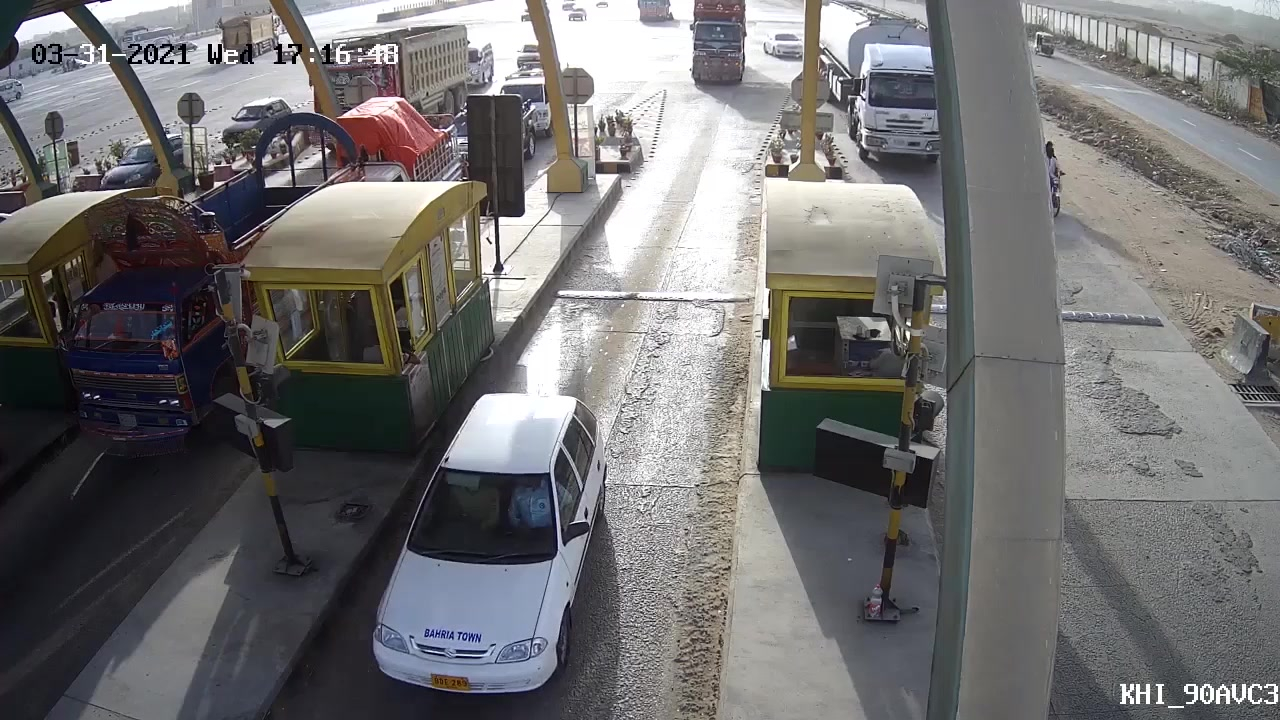F1: (376, 378, 620, 699)
